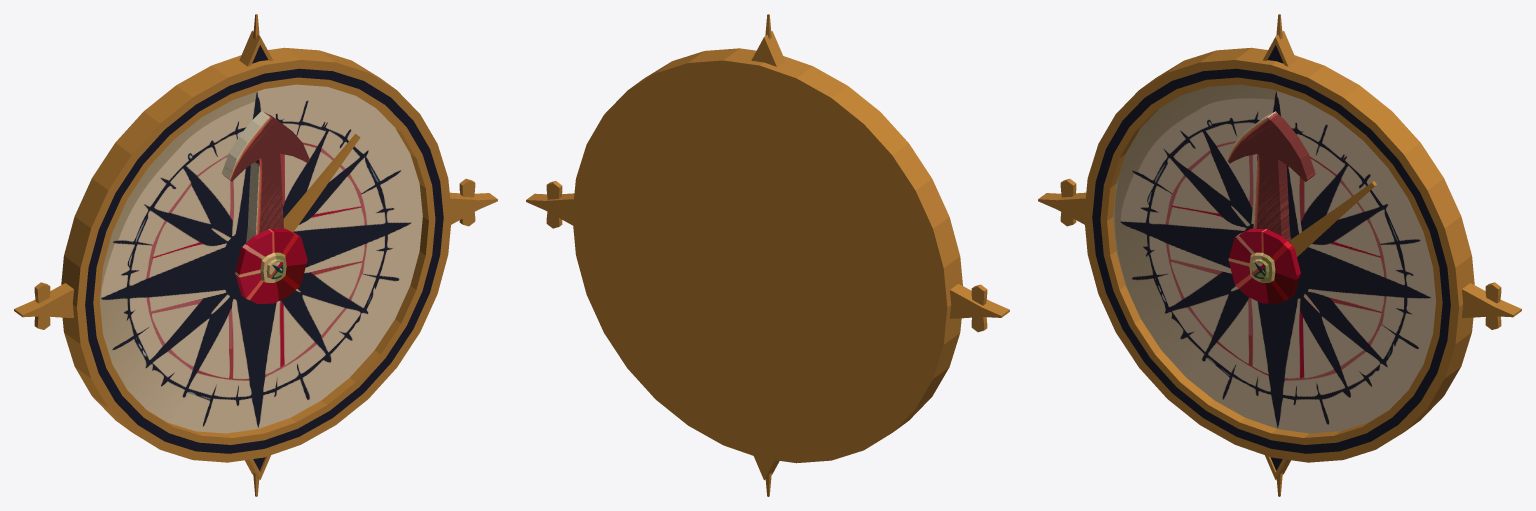
File: compass.fbx
The picture shows the model from 3 angles, left to right: view 1: azimuth 30°, elevation 25°; view 2: azimuth 150°, elevation 25°; view 3: azimuth 330°, elevation 25°; orthographic projection.
Parts seen in each view (by area): view 1: base, arrow, middle-red, side-detail-00, yellow-pointer, top-down-details-00, side-detail-01; view 2: base, side-detail-00, top-down-details-00, side-detail-01; view 3: base, arrow, middle-red, side-detail-00, yellow-pointer, top-down-details-00, side-detail-01.
Part boxes in pixels (<box>): base: <box>61,47,451,462</box>; arrow: <box>221,111,309,242</box>; middle-red: <box>235,228,307,303</box>; side-detail-00: <box>14,192,497,317</box>; yellow-pointer: <box>283,134,360,232</box>; top-down-details-00: <box>239,31,272,479</box>; side-detail-01: <box>34,178,475,329</box>; base: <box>572,48,962,463</box>; side-detail-00: <box>526,193,1009,318</box>; top-down-details-00: <box>751,31,785,479</box>; side-detail-01: <box>546,181,987,332</box>; base: <box>1084,47,1474,462</box>; arrow: <box>1227,111,1315,243</box>; middle-red: <box>1228,228,1300,303</box>; side-detail-00: <box>1038,192,1521,317</box>; yellow-pointer: <box>1290,181,1376,256</box>; top-down-details-00: <box>1263,31,1296,479</box>; side-detail-01: <box>1060,178,1501,329</box>.
Size of the model in its own units: 677 by 656 by 72.17.
7 materials, 5 textured.
